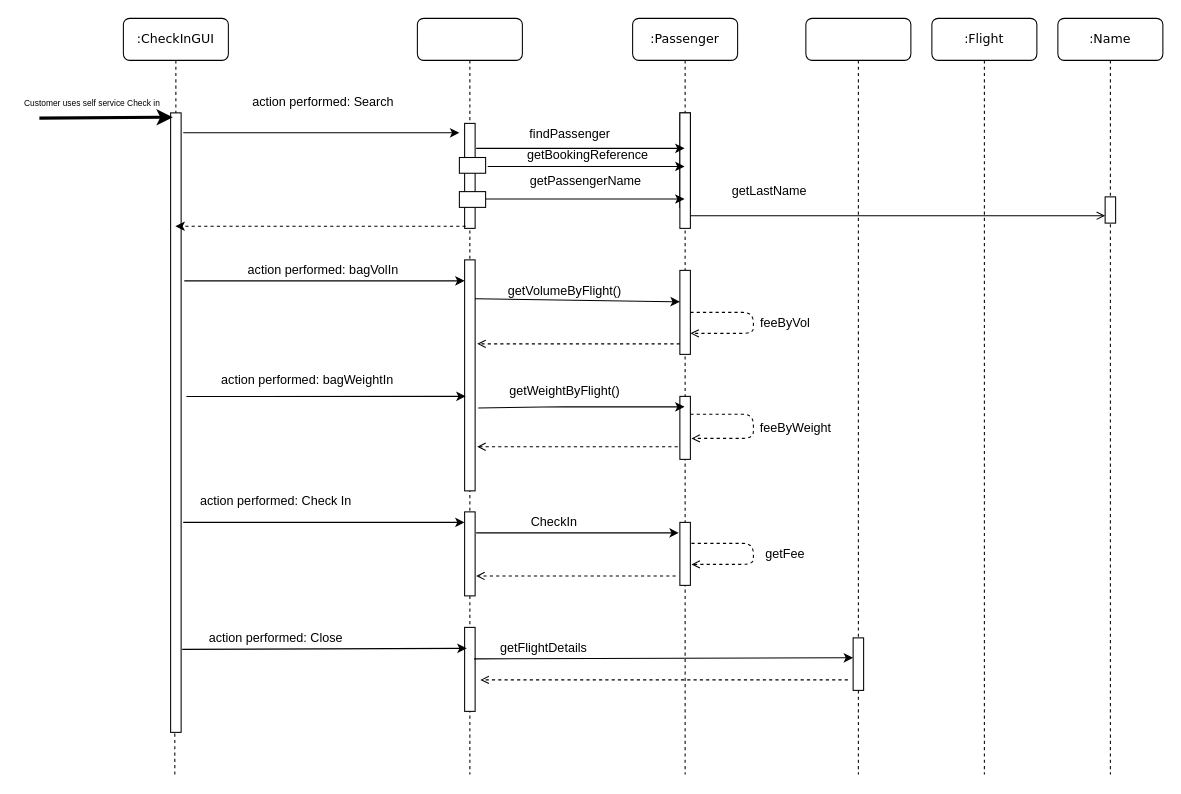
Image size: 1181x794. Some labels were removed from this diagram. The shapes that lost their labels are listed below. From the top down, each one's box as (x1, y1, x2, y2) in pixels, then its label:
(805, 17, 911, 638): :FlightList
(416, 17, 522, 774): :PassengerList
